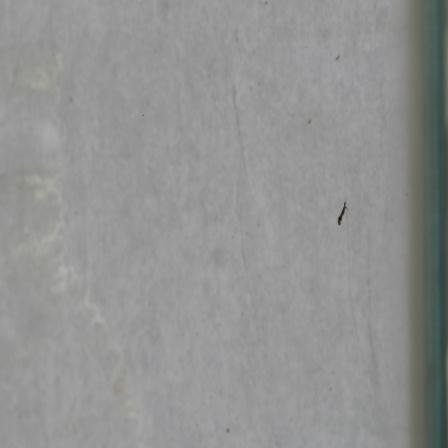Jentik-Nyamuk: (333, 197, 351, 230)
